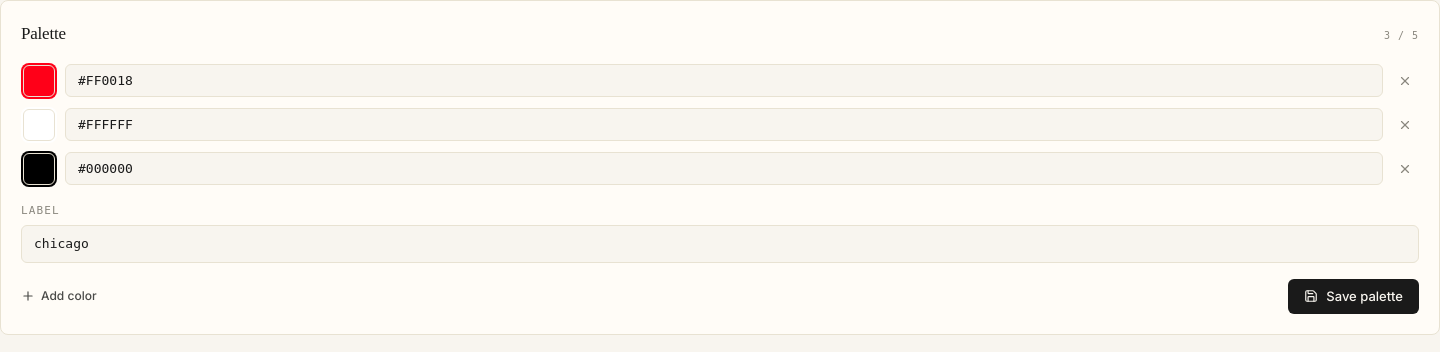
it: PalettePanel › disables_submit_during_pending_request
Click the button "Save palette": (1354, 296) [1288, 278, 1419, 314]
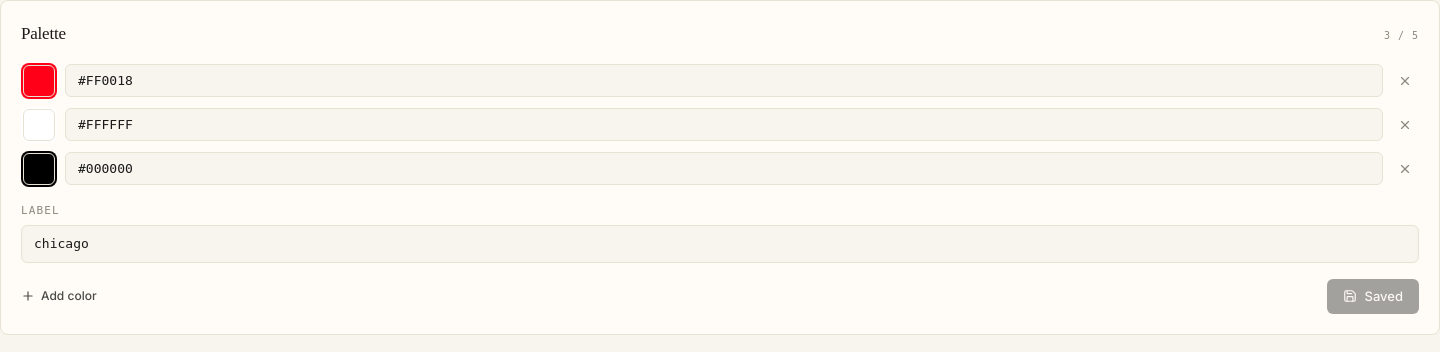
Now the button with aria-label "save palette" is disabled, box [1326, 278, 1419, 314]
